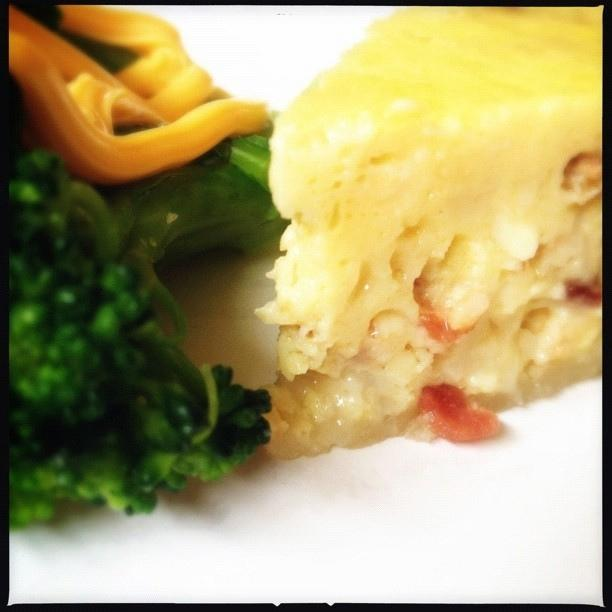broccoli: (7, 124, 291, 522)
